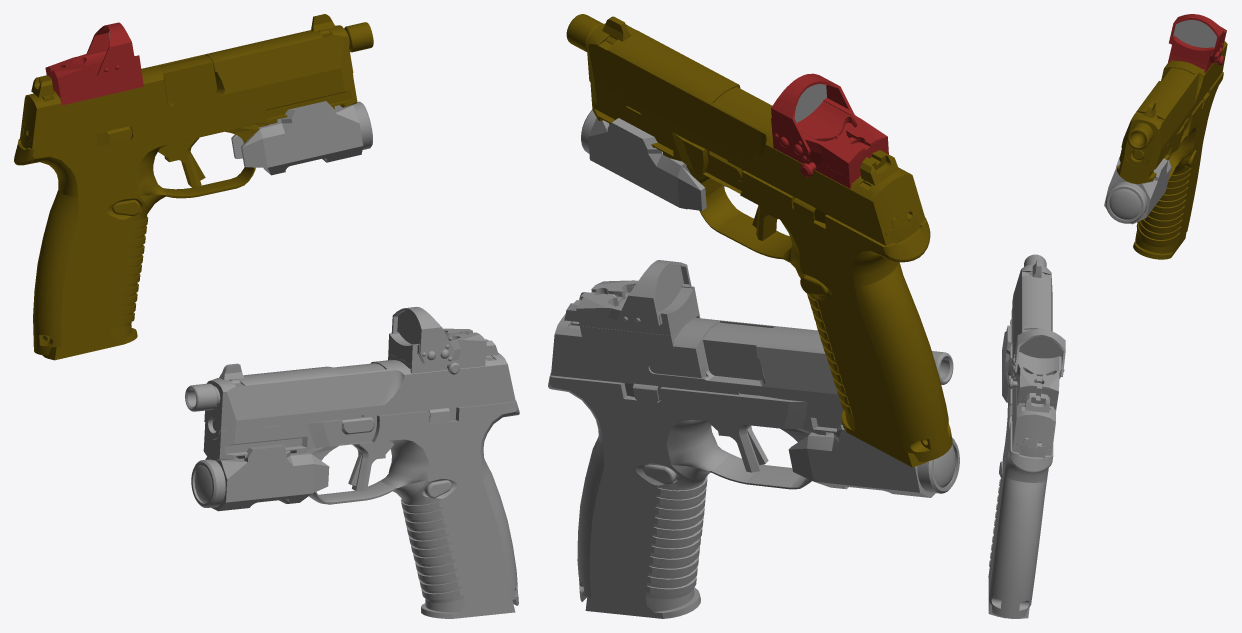
3 renders of one model, left to right at view 1: azimuth 30°, elevation 25°; view 2: azimuth 150°, elevation 25°; view 3: azimuth 270°, elevation 25°, orthographic. The views are drawn at different scales.
Visible parts, largest first — view 1: pest_low001, pest_low, apl_low001, apl_low, collimator001, collimator; view 2: pest_low001, pest_low, collimator001, apl_low, collimator, apl_low001, Object003, Object005; view 3: pest_low, pest_low001, collimator, apl_low001, collimator001, Object005, Object003, apl_low.
Boxes of the visible parts, <box> form: pest_low001: <box>14,14,373,360</box>; pest_low: <box>185,336,519,618</box>; apl_low001: <box>231,101,372,175</box>; apl_low: <box>191,444,329,511</box>; collimator001: <box>45,22,143,105</box>; collimator: <box>388,307,486,374</box>; pest_low001: <box>566,14,952,467</box>; pest_low: <box>548,292,953,618</box>; collimator001: <box>771,73,888,188</box>; apl_low: <box>788,425,959,497</box>; collimator: <box>576,260,700,348</box>; apl_low001: <box>581,110,726,210</box>; Object003: <box>655,264,683,311</box>; Object005: <box>794,84,826,122</box>; pest_low: <box>988,254,1055,618</box>; pest_low001: <box>1116,41,1227,259</box>; collimator: <box>1008,329,1065,410</box>; apl_low001: <box>1104,157,1171,224</box>; collimator001: <box>1168,14,1226,72</box>; Object005: <box>1173,20,1217,47</box>; Object003: <box>1019,336,1062,358</box>; apl_low: <box>1002,325,1011,402</box>.
Size of the model in its own units: 111 by 152 by 67.75.
